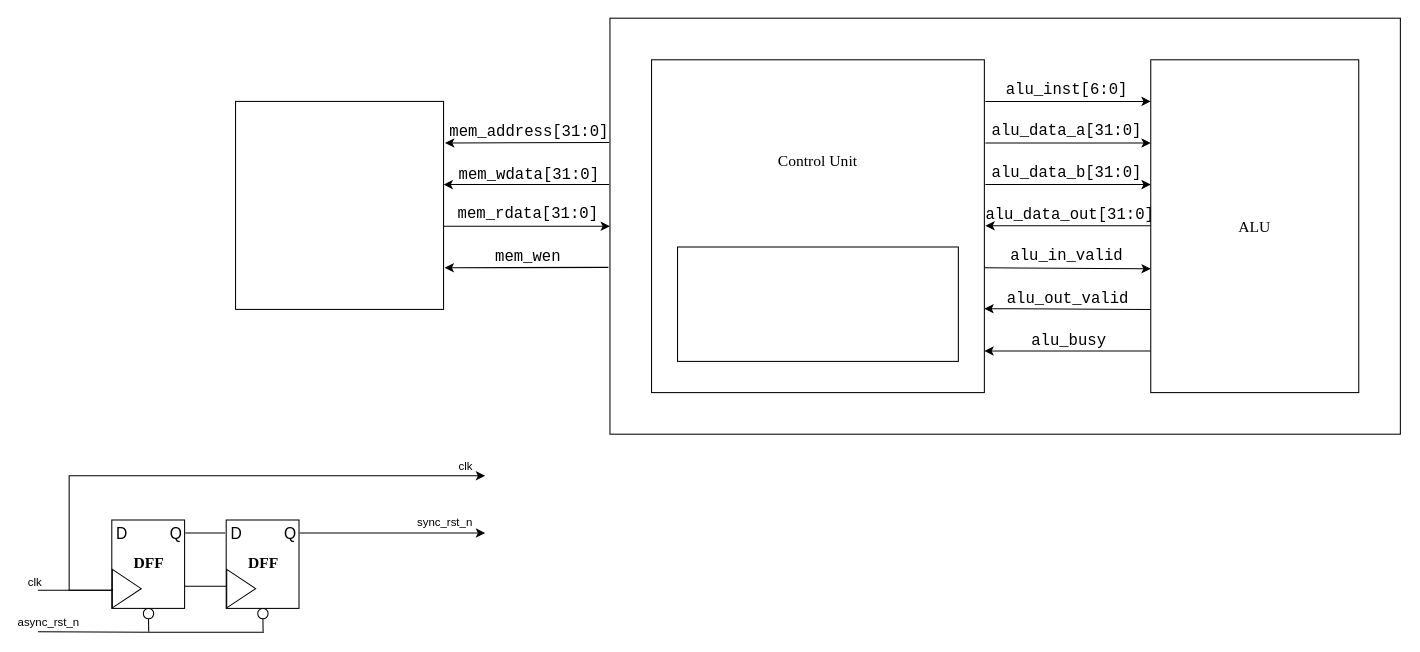
Some shapes in this 1420 by 652 pixel diagram are drawn without their labels. The shapes that lost their labels are listed below. From the top down, each one's centre as x and y in pixels, then its label:
(x=339, y=204): Memory
(x=817, y=303): Register File
